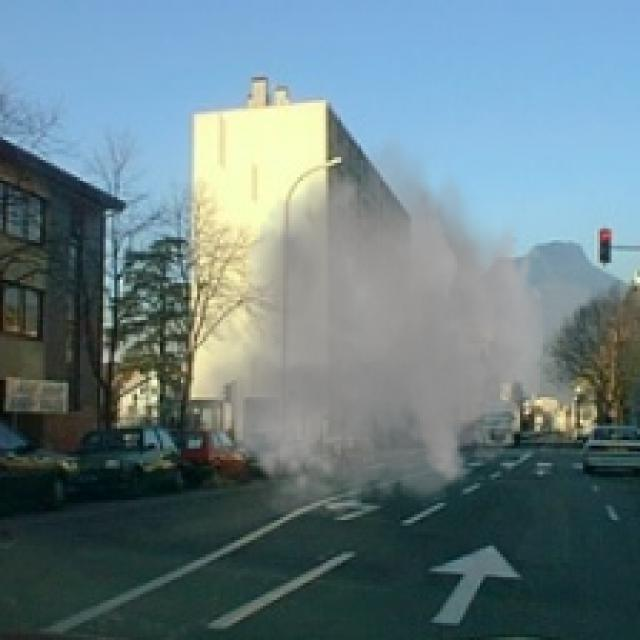Smoke: (172, 122, 554, 534)
